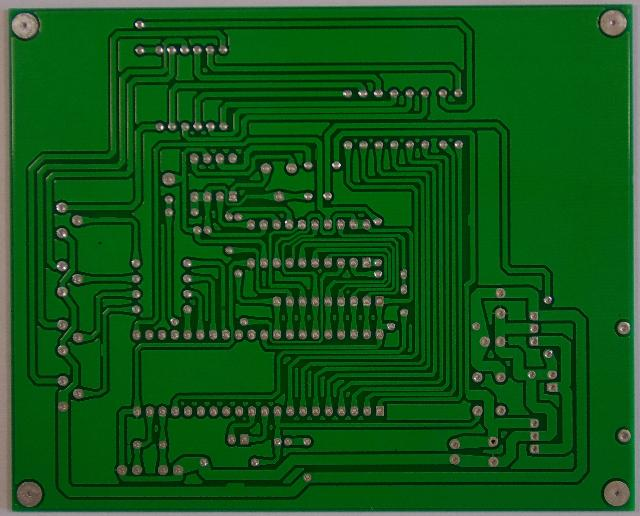spur: (222, 479, 250, 493), (98, 213, 120, 223), (466, 212, 476, 230), (312, 146, 320, 161), (100, 342, 106, 358)
